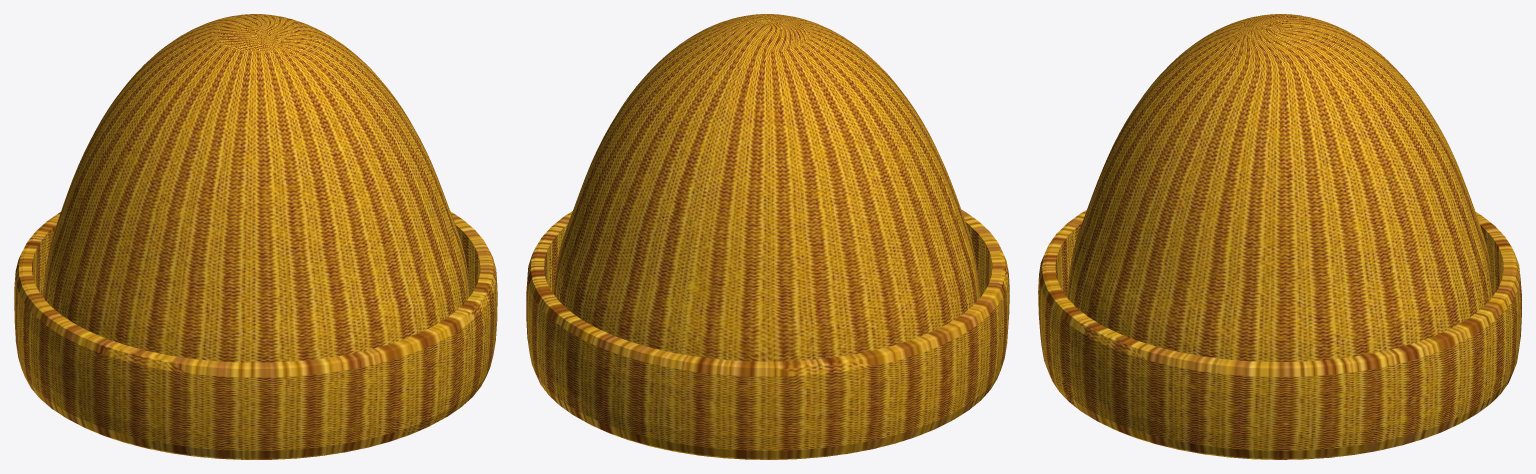
The model's file is beanie hat.fbx.
3 renders of one model, left to right at view 1: azimuth 30°, elevation 25°; view 2: azimuth 150°, elevation 25°; view 3: azimuth 270°, elevation 25°, orthographic.
Parts seen in each view (by area): view 1: Sphere; view 2: Sphere; view 3: Sphere.
Part boxes in pixels (x1,y1,x2,y2): Sphere: (14,14,497,459); Sphere: (526,14,1009,459); Sphere: (1038,14,1521,459).
Bounding box in the file's own units: 215 × 166 × 215.
